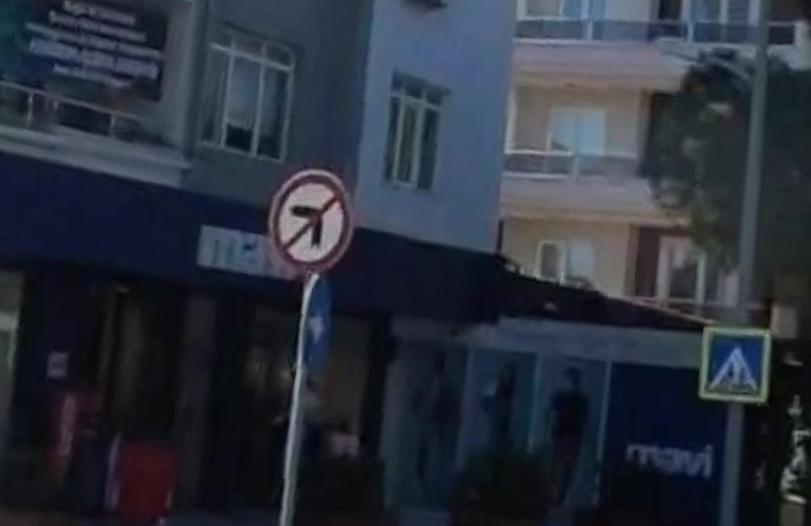leftturnsareforbidden: (268, 168, 352, 272)
